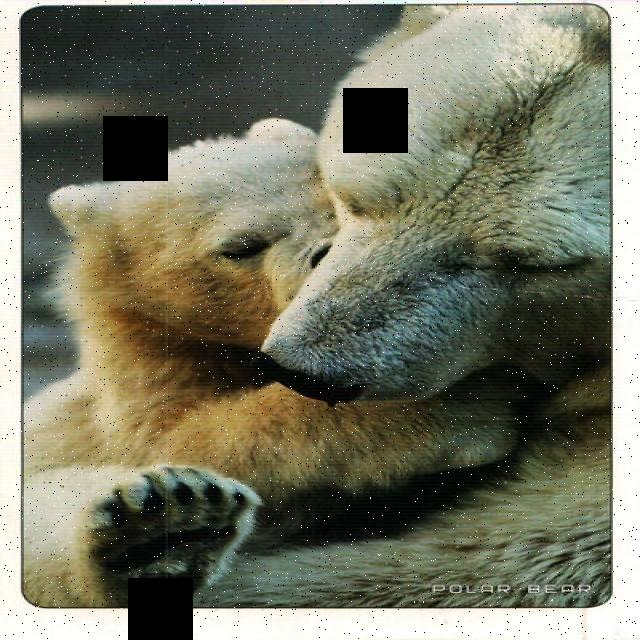Bear: (47, 8, 640, 625), (32, 123, 514, 497)
